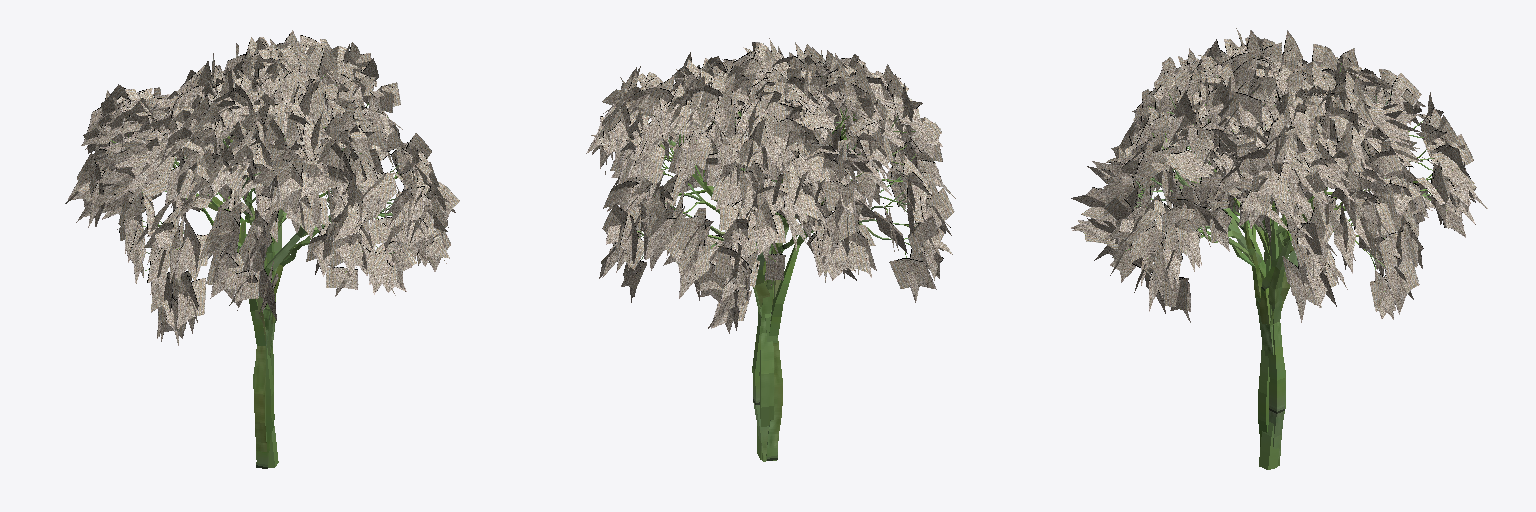
3 renders of one model, left to right at view 1: azimuth 30°, elevation 25°; view 2: azimuth 150°, elevation 25°; view 3: azimuth 270°, elevation 25°, orthographic.
Visible parts, largest first — view 1: Arbol4; view 2: Arbol4; view 3: Arbol4.
Boxes of the visible parts, <box> form: Arbol4: <box>65,30,459,468</box>; Arbol4: <box>586,38,955,461</box>; Arbol4: <box>1071,28,1487,469</box>.
Size of the model in its own units: 18.6 by 24.69 by 22.66.
1 materials, 1 textured.